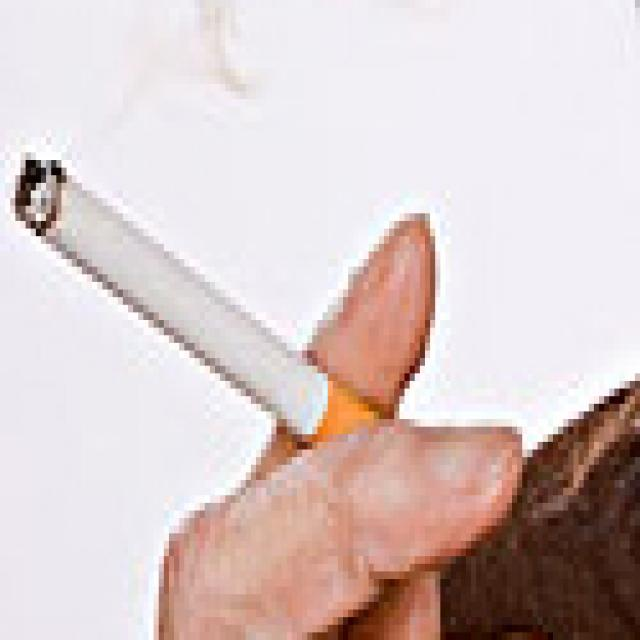smoking: (15, 156, 416, 454)
